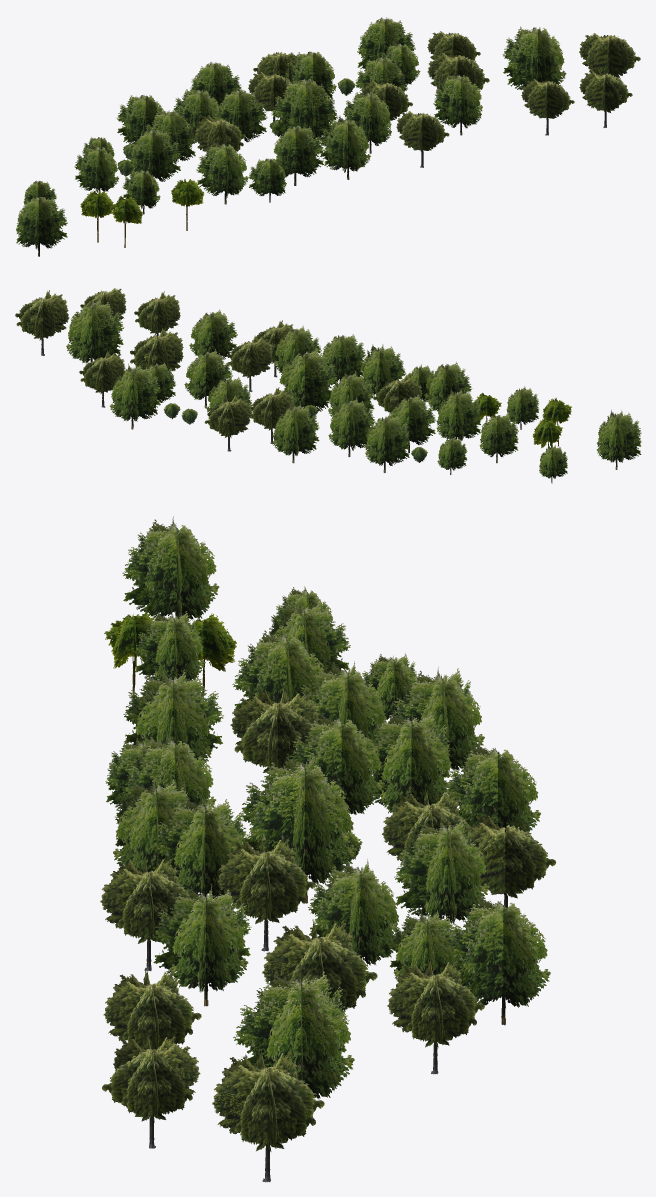
File: ParkTreesChunk10.fbx
3 renders of one model, top to bottom at view 1: azimuth 30°, elevation 25°; view 2: azimuth 150°, elevation 25°; view 3: azimuth 270°, elevation 25°, orthographic. The views are drawn at different scales.
Visible parts, largest first — view 1: TreesPack.003; view 2: TreesPack.003; view 3: TreesPack.003.
Boxes of the visible parts, box(x1,y1,x2,y2) form: TreesPack.003: box(16, 17, 640, 256); TreesPack.003: box(15, 288, 641, 483); TreesPack.003: box(100, 516, 555, 1182).
Bounding box in the file's own units: 16734 × 2165 × 5557.
